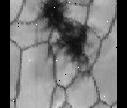good_void: (38, 0, 93, 74)
